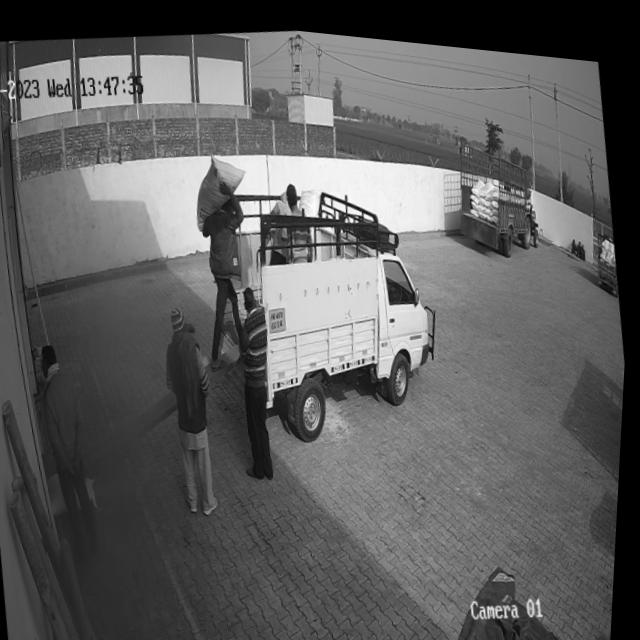sack: (189, 146, 255, 235)
